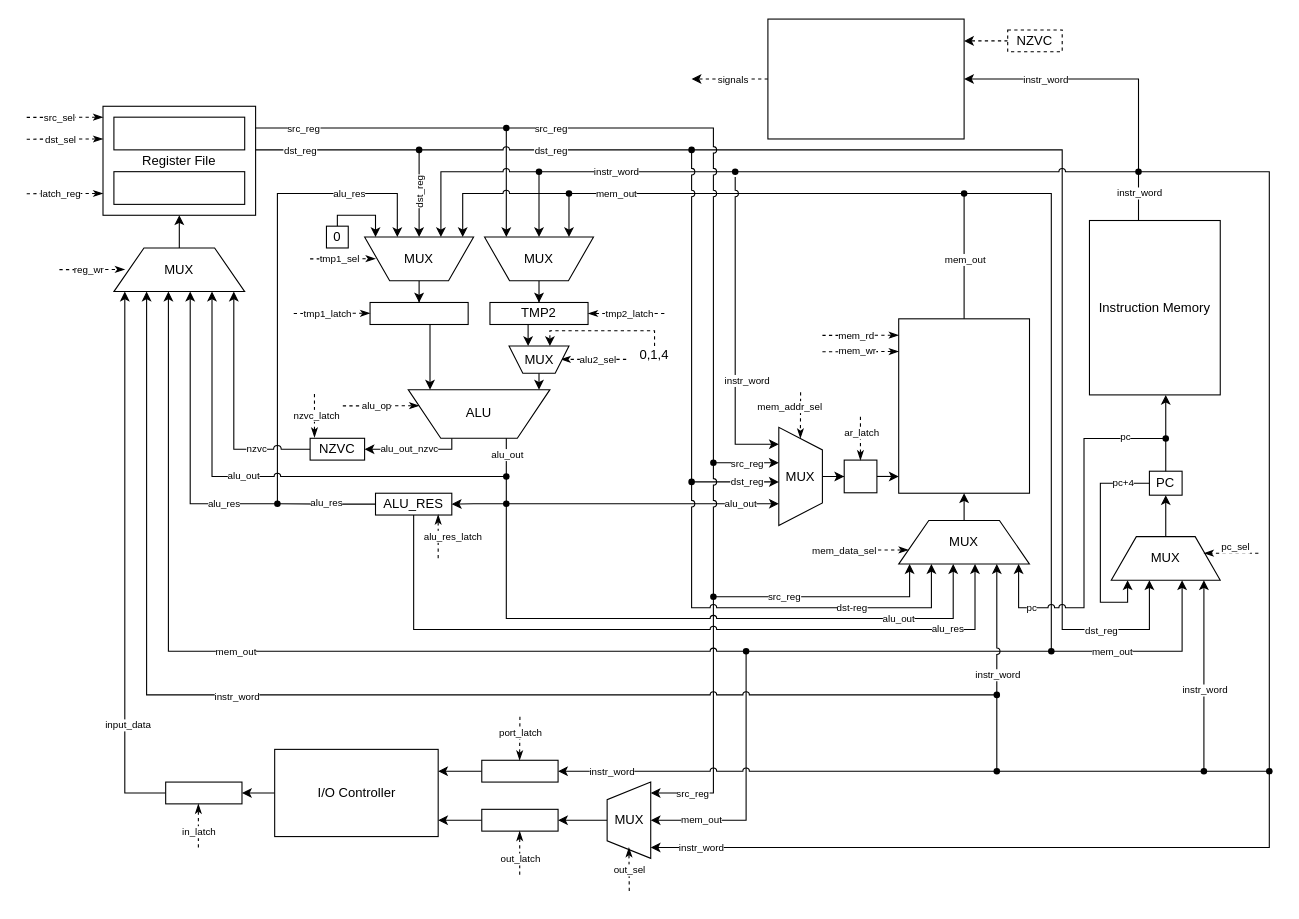
The diagram is 1299 pixels wide and 919 high, and some of its shapes have lost their labels. Here are the shapes that lost their labels. From the top down, the centre of each, then its label:
At point (865, 78): "Control Unit".
At point (179, 133): "R0..R5".
At point (179, 187): "R6(DSP), R7(RSP)".
At point (418, 312): "TMP1".
At point (964, 405): "Data Memory".
At point (860, 476): "AR".
At point (519, 770): "PORT".
At point (203, 792): "IN_DATA".
At point (519, 819): "OUT_DATA".
